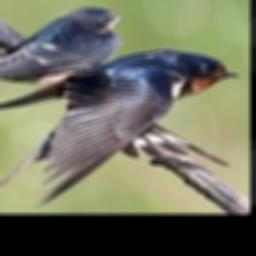Swallow: (0, 49, 239, 206), (0, 6, 121, 78)
